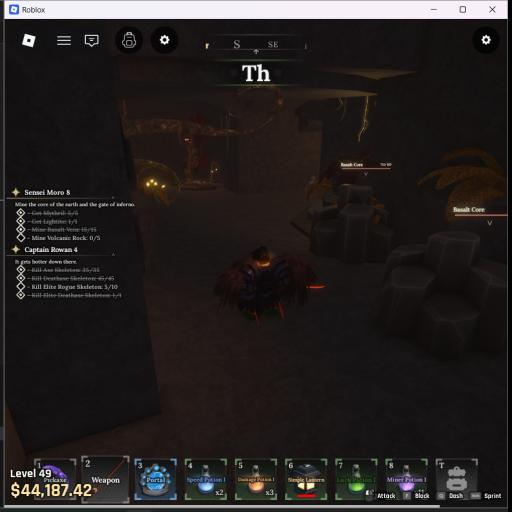player: (213, 246, 317, 321)
rock: (376, 232, 507, 358), (310, 185, 394, 264)
